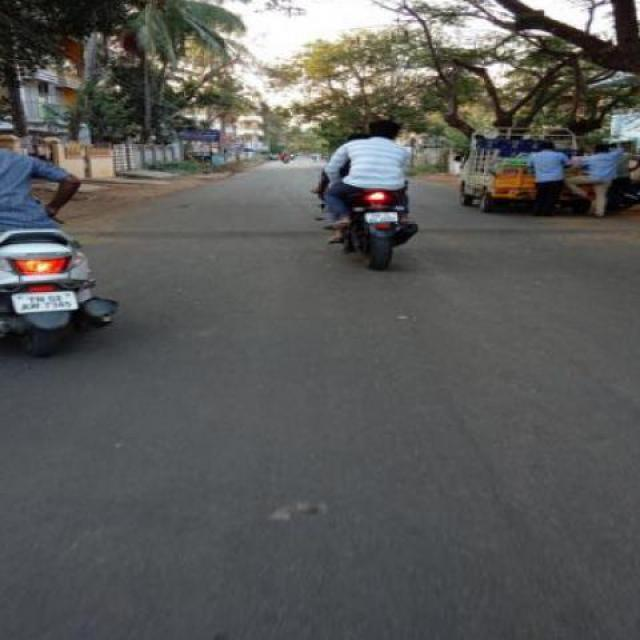Unmarked Bump: (418, 224, 638, 238), (64, 228, 320, 238)
